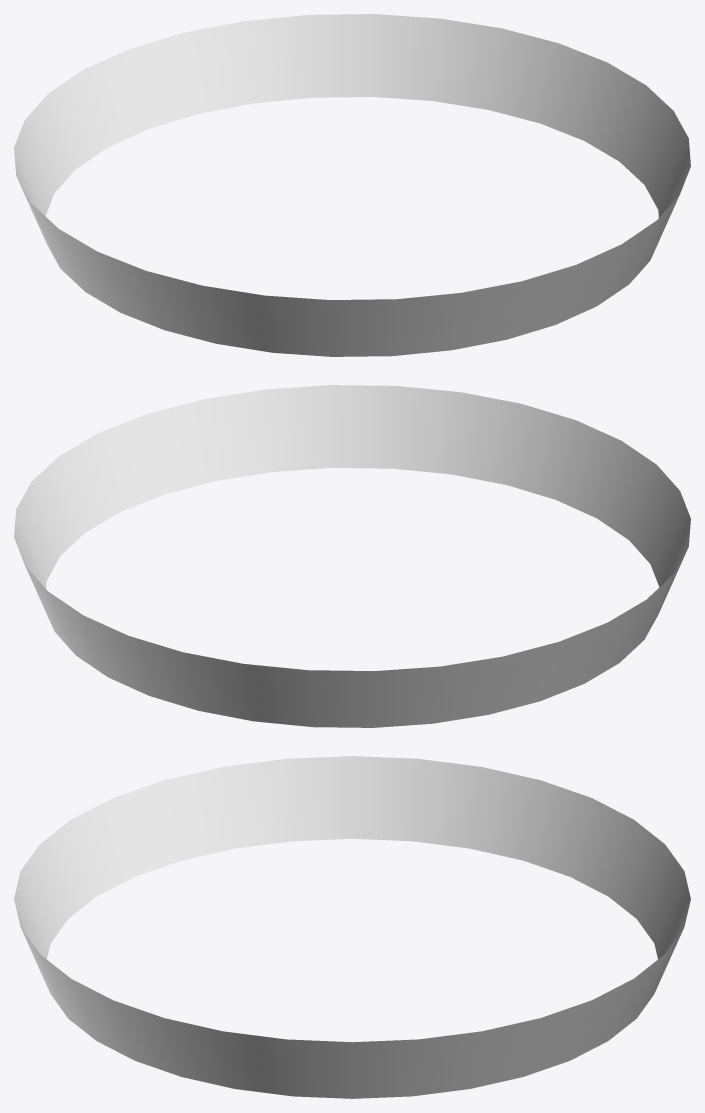
File: TeleportRing.fbx
3 views of the same model, one above another, from view 1: azimuth 30°, elevation 25°; view 2: azimuth 150°, elevation 25°; view 3: azimuth 270°, elevation 25° (orthographic).
Parts seen in each view (by area): view 1: TeleportRing; view 2: TeleportRing; view 3: TeleportRing.
Boxes of the visible parts, bbox=[...] form: TeleportRing: bbox=[14, 14, 690, 356]; TeleportRing: bbox=[14, 385, 690, 727]; TeleportRing: bbox=[14, 756, 690, 1098].
Bounding box in the file's own units: 2.33 × 0.2651 × 2.33.
Materials: 1 (1 with a texture image).
